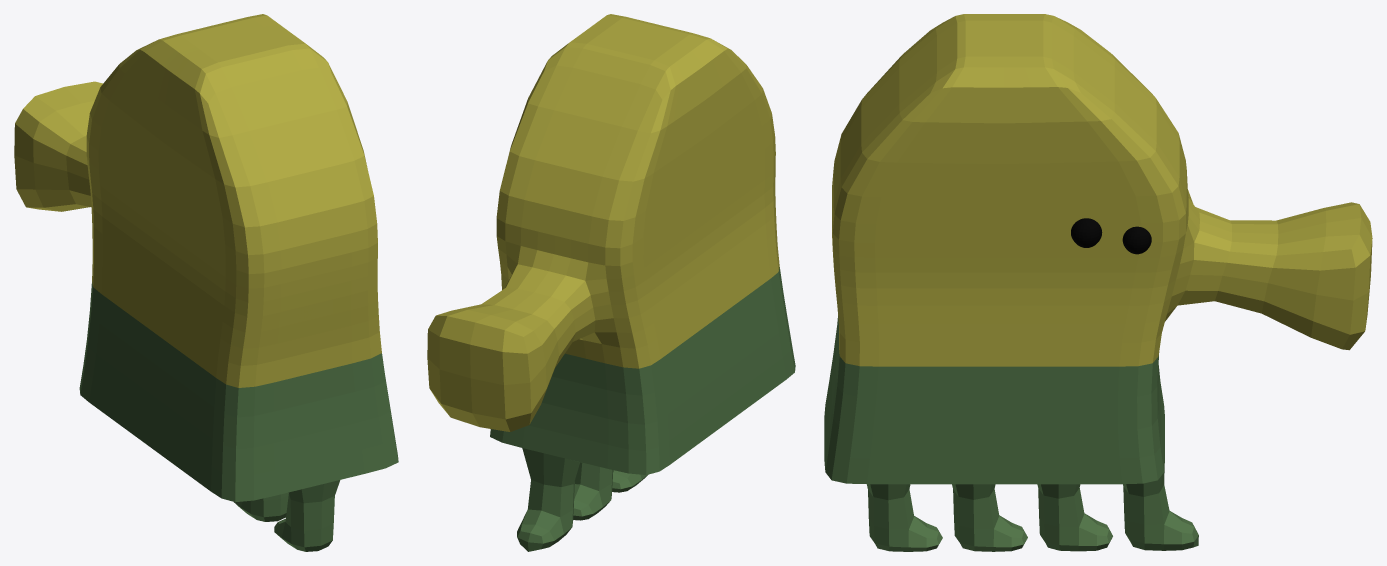
Rendered from Doodle.fbx.
The picture shows the model from 3 angles, left to right: view 1: azimuth 30°, elevation 25°; view 2: azimuth 150°, elevation 25°; view 3: azimuth 270°, elevation 25°; orthographic projection. The views are drawn at different scales.
Parts seen in each view (by area): view 1: DoodleGuy; view 2: DoodleGuy; view 3: DoodleGuy.
Part boxes in pixels (bbox=[...]): DoodleGuy: bbox=[14, 14, 398, 551]; DoodleGuy: bbox=[427, 14, 795, 551]; DoodleGuy: bbox=[824, 14, 1372, 551].
Size of the model in its own units: 162 by 411 by 411.
